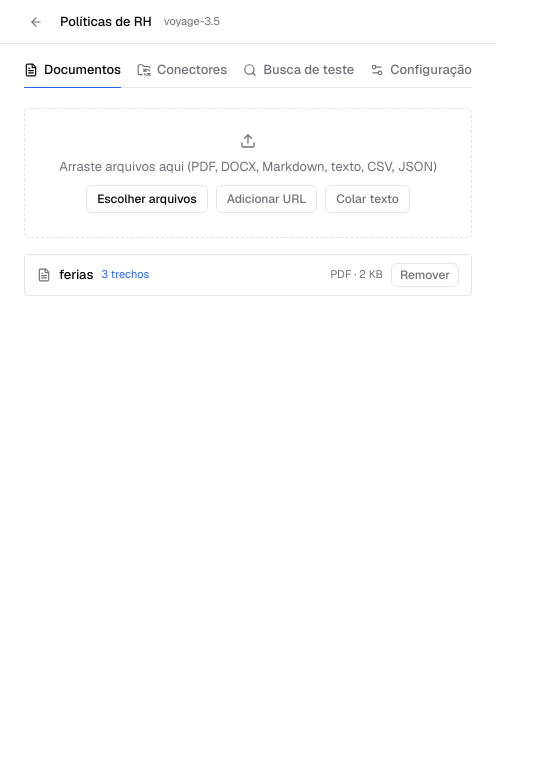
KnowledgeBasePage › mostra quem usa a base quando a remoção é recusada
Click the tab "Configuração": click(421, 70) [370,52,472,88]
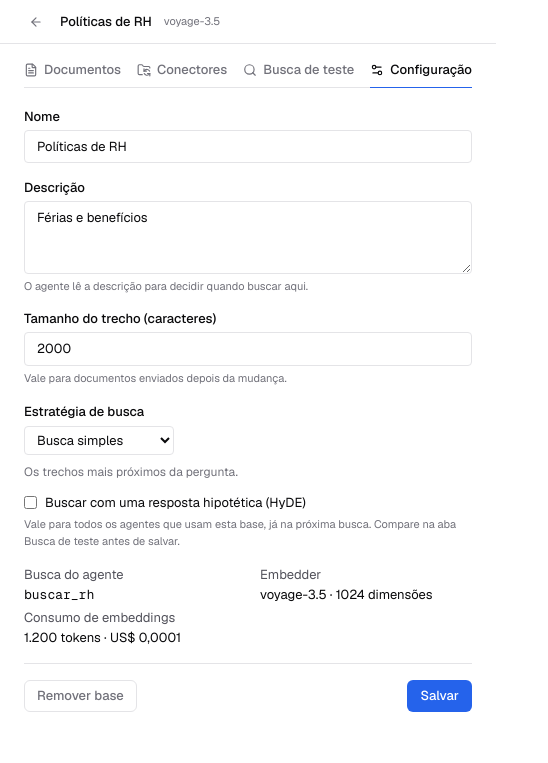
Click the button "Remover base": click(80, 696) [24,680,137,712]
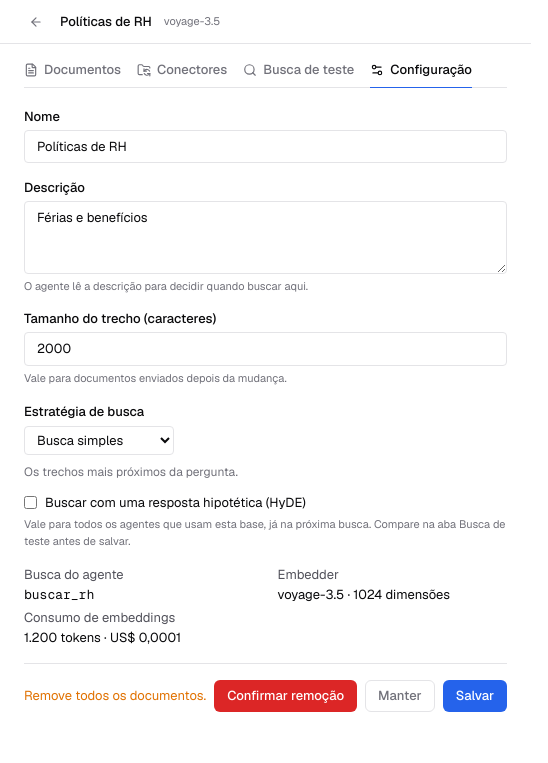
Click the button "Confirmar remoção": click(286, 696) [214,680,357,712]
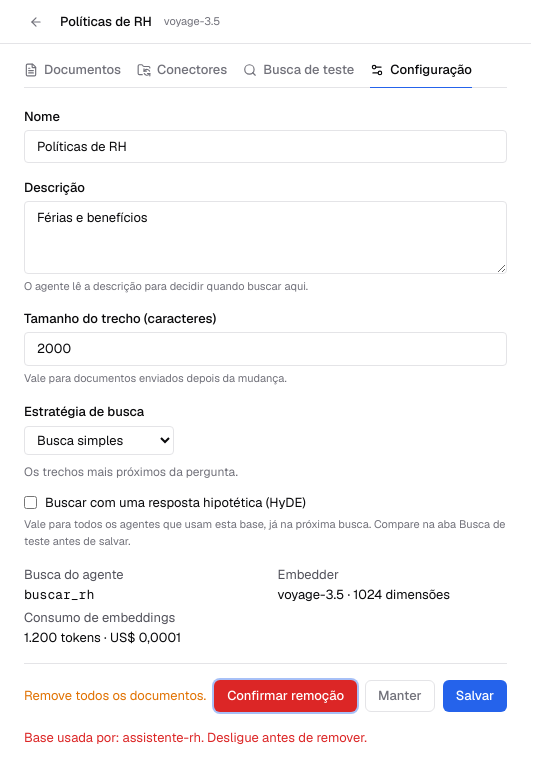
Now the text "Base usada por: assistente-rh. Desligue antes de remover." is shown, box [24,729,367,746]
